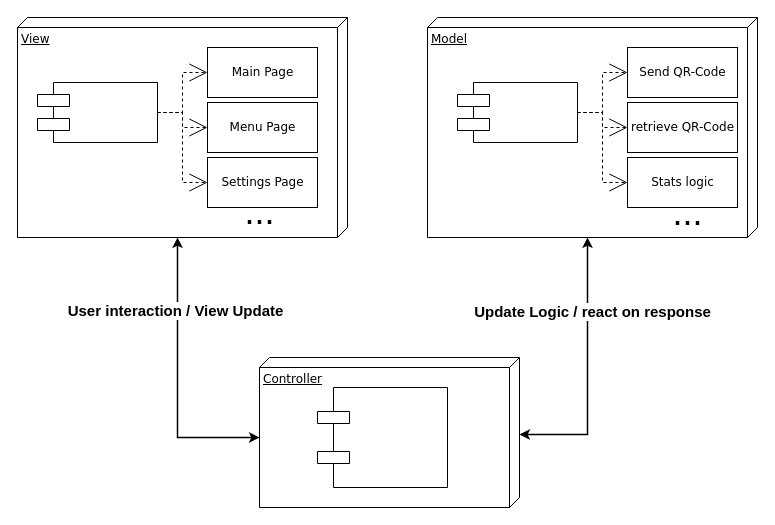
Some shapes in this 775 by 525 pixel diagram are drawn without their labels. The centre of each missing label's shape, as x and y in pixels:
"Backend Logic" goes at point 517,112.
"Flutter UI Single Pages" goes at point 97,112.
"Page-, Color-, Language- Management" goes at point 382,437.
